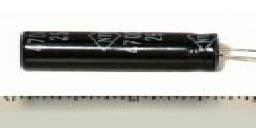Electrolytic-Capacitor: (16, 25, 256, 81)
